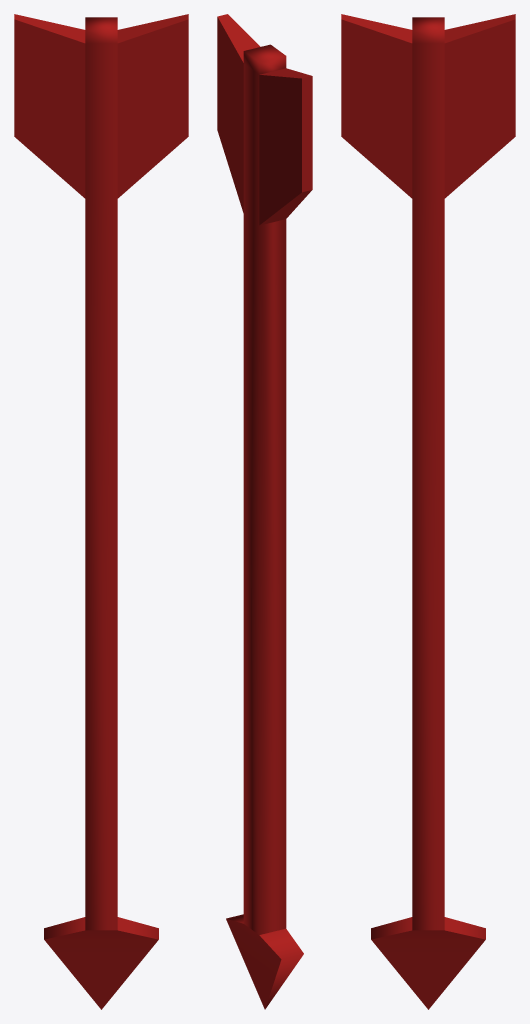
3 renders of one model, left to right at view 1: azimuth 90°, elevation 25°; view 2: azimuth 210°, elevation 25°; view 3: azimuth 270°, elevation 25°, orthographic. The views are drawn at different scales.
Parts seen in each view (by area): view 1: ok; view 2: ok; view 3: ok.
Boxes of the visible parts, <box> form: ok: <box>14,14,188,1009</box>; ok: <box>217,14,312,1009</box>; ok: <box>341,14,515,1009</box>.
Bounding box in the file's own units: 17.98 × 615 × 98.03.
